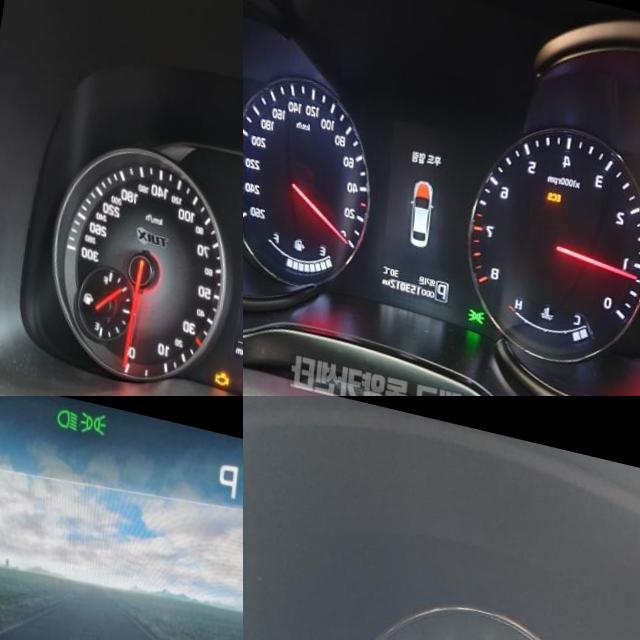Low beam: (57, 396, 80, 416)
SideLamp: (81, 396, 109, 421), (475, 287, 493, 305)
